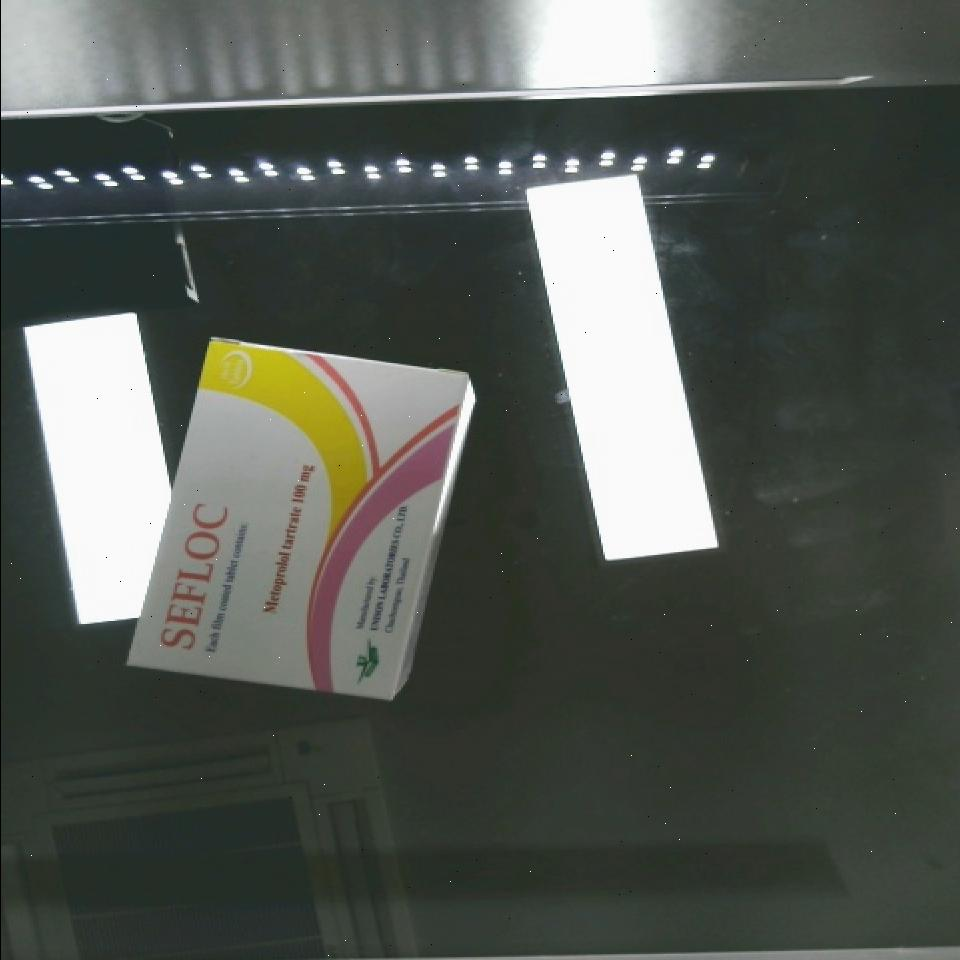medicine_box: (126, 318, 470, 724)
medicine_label_obb: (131, 480, 249, 676)
